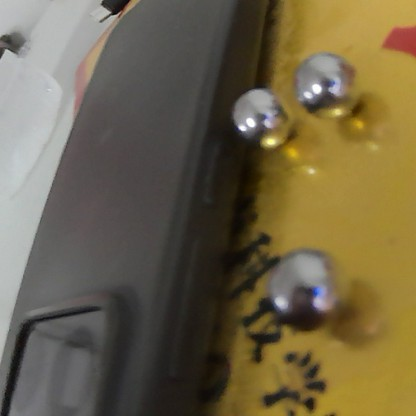ironball: (253, 237, 338, 339), (284, 46, 355, 129), (230, 85, 288, 149)
